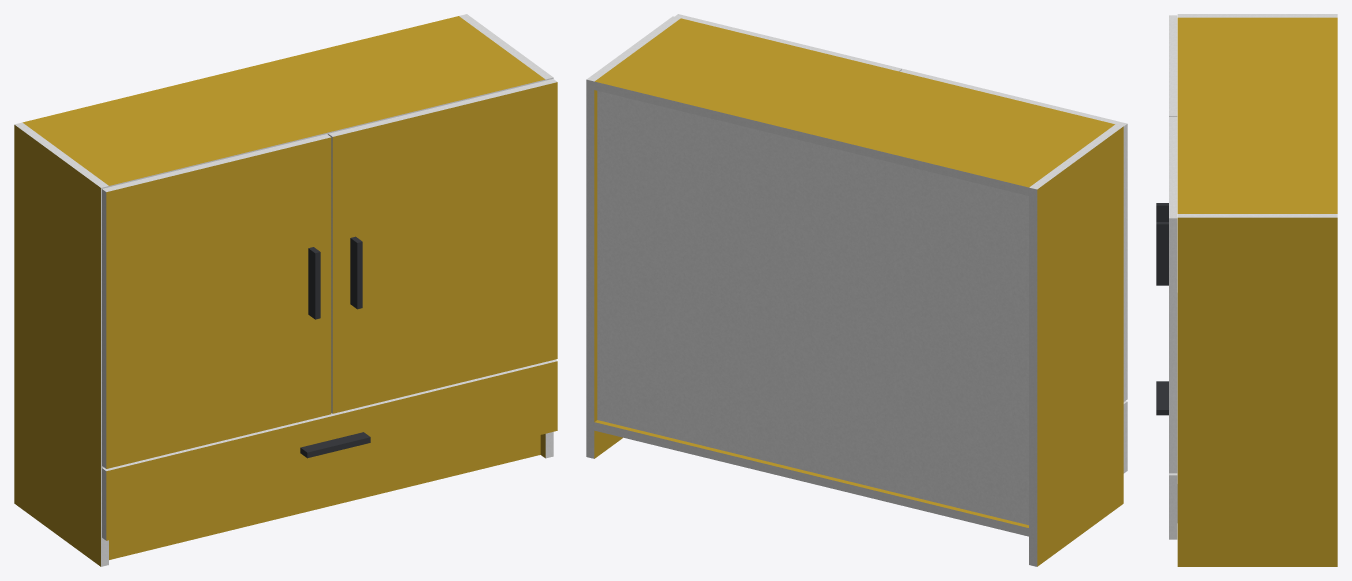
File: FET-CON-std.glb
3 renders of one model, left to right at view 1: azimuth 30°, elevation 25°; view 2: azimuth 150°, elevation 25°; view 3: azimuth 270°, elevation 25°, orthographic. The views are drawn at different scales.
Parts seen in each view (by area): view 1: door-r:pbr, door-l:pbr, top:pbr, side-l:pbr, d1-front:pbr, plinth:pbr, pull, door-l:sheet:eyJtIjoibWRmIiwic2lkZSI6ImVkZ2UtbG9uZyIsInNlZWQ, d1-front:sheet:eyJtIjoibWRmIiwic2lkZSI6ImVkZ2UtbG9uZyIsInNlZ, door-l:sheet:eyJtIjoibWRmIiwic2lkZSI6ImVkZ2UtZW5kIiwic2VlZCI, door-r:sheet:eyJtIjoibWRmIiwic2lkZSI6ImVkZ2UtZW5kIiwic2VlZCI, top:sheet:eyJtIjoibWRmIiwic2lkZSI6ImVkZ2UtbG9uZyIsInNlZWQiOj (+2 smaller); view 2: back:sheet:eyJtIjoibWRmIiwic2lkZSI6ImZhY2UiLCJzZWVkIjoyLCJ0a, top:pbr, side-l:pbr, top:sheet:eyJtIjoibWRmIiwic2lkZSI6ImVkZ2UtbG9uZyIsInNlZWQiOj, bottom:sheet:eyJtIjoibWRmIiwic2lkZSI6ImVkZ2UtbG9uZyIsInNlZWQ, side-r:sheet:eyJtIjoibWRmIiwic2lkZSI6ImVkZ2UtbG9uZyIsInNlZWQ, side-l:sheet:eyJtIjoibWRmIiwic2lkZSI6ImVkZ2UtbG9uZyIsInNlZWQ, side-r:pbr, bottom:pbr, door-l:sheet:eyJtIjoibWRmIiwic2lkZSI6ImVkZ2UtbG9uZyIsInNlZWQ, door-r:sheet:eyJtIjoibWRmIiwic2lkZSI6ImVkZ2UtZW5kIiwic2VlZCI, door-l:sheet:eyJtIjoibWRmIiwic2lkZSI6ImVkZ2UtZW5kIiwic2VlZCI (+2 smaller); view 3: side-r:pbr, top:pbr, door-r:sheet:eyJtIjoibWRmIiwic2lkZSI6ImVkZ2UtbG9uZyIsInNlZWQ, pull, door-l:sheet:eyJtIjoibWRmIiwic2lkZSI6ImVkZ2UtZW5kIiwic2VlZCI, door-r:sheet:eyJtIjoibWRmIiwic2lkZSI6ImVkZ2UtZW5kIiwic2VlZCI, side-l:sheet:eyJtIjoibWRmIiwic2lkZSI6ImVkZ2UtZW5kIiwic2VlZCI, side-r:sheet:eyJtIjoibWRmIiwic2lkZSI6ImVkZ2UtZW5kIiwic2VlZCI, d1-front:sheet:eyJtIjoibWRmIiwic2lkZSI6ImVkZ2UtZW5kIiwic2VlZ.
Boxes of the visible parts, x1,y1,x2,y2 form: door-r:pbr: (332,82,557,413); door-l:pbr: (106,137,331,468); top:pbr: (22,16,545,185); side-l:pbr: (14,125,100,566); d1-front:pbr: (106,361,557,540); plinth:pbr: (109,435,540,559); pull: (300,236,370,458); door-l:sheet:eyJtIjoibWRmIiwic2lkZSI6ImVkZ2UtbG9uZyIsInNlZWQ: (102,189,106,468); d1-front:sheet:eyJtIjoibWRmIiwic2lkZSI6ImVkZ2UtbG9uZyIsInNlZ: (102,359,557,470); door-l:sheet:eyJtIjoibWRmIiwic2lkZSI6ImVkZ2UtZW5kIiwic2VlZCI: (102,134,330,191); door-r:sheet:eyJtIjoibWRmIiwic2lkZSI6ImVkZ2UtZW5kIiwic2VlZCI: (328,79,556,136); top:sheet:eyJtIjoibWRmIiwic2lkZSI6ImVkZ2UtbG9uZyIsInNlZWQiOj: (109,79,545,186); back:sheet:eyJtIjoibWRmIiwic2lkZSI6ImZhY2UiLCJzZWVkIjoyLCJ0a: (597,91,1028,525); top:pbr: (595,18,1114,187); side-l:pbr: (1037,126,1123,566); top:sheet:eyJtIjoibWRmIiwic2lkZSI6ImVkZ2UtbG9uZyIsInNlZWQiOj: (594,81,1028,195); bottom:sheet:eyJtIjoibWRmIiwic2lkZSI6ImVkZ2UtbG9uZyIsInNlZWQ: (594,422,1028,536); side-r:sheet:eyJtIjoibWRmIiwic2lkZSI6ImVkZ2UtbG9uZyIsInNlZWQ: (586,79,594,458); side-l:sheet:eyJtIjoibWRmIiwic2lkZSI6ImVkZ2UtbG9uZyIsInNlZWQ: (1029,187,1037,566); side-r:pbr: (594,90,622,458); bottom:pbr: (595,420,1028,527); door-l:sheet:eyJtIjoibWRmIiwic2lkZSI6ImVkZ2UtbG9uZyIsInNlZWQ: (1123,124,1127,401); door-r:sheet:eyJtIjoibWRmIiwic2lkZSI6ImVkZ2UtZW5kIiwic2VlZCI: (675,14,901,71); door-l:sheet:eyJtIjoibWRmIiwic2lkZSI6ImVkZ2UtZW5kIiwic2VlZCI: (900,69,1126,126); side-r:pbr: (1177,217,1337,566); top:pbr: (1177,17,1337,213); door-r:sheet:eyJtIjoibWRmIiwic2lkZSI6ImVkZ2UtbG9uZyIsInNlZWQ: (1169,218,1177,473); pull: (1156,203,1168,415); door-l:sheet:eyJtIjoibWRmIiwic2lkZSI6ImVkZ2UtZW5kIiwic2VlZCI: (1169,15,1177,116); door-r:sheet:eyJtIjoibWRmIiwic2lkZSI6ImVkZ2UtZW5kIiwic2VlZCI: (1169,117,1177,218); side-l:sheet:eyJtIjoibWRmIiwic2lkZSI6ImVkZ2UtZW5kIiwic2VlZCI: (1177,14,1337,17); side-r:sheet:eyJtIjoibWRmIiwic2lkZSI6ImVkZ2UtZW5kIiwic2VlZCI: (1177,214,1337,217); d1-front:sheet:eyJtIjoibWRmIiwic2lkZSI6ImVkZ2UtZW5kIiwic2VlZ: (1169,475,1177,539).
Bounding box in the file's own units: 1 × 0.8 × 0.3766.
Materials: 55 (42 with a texture image).
